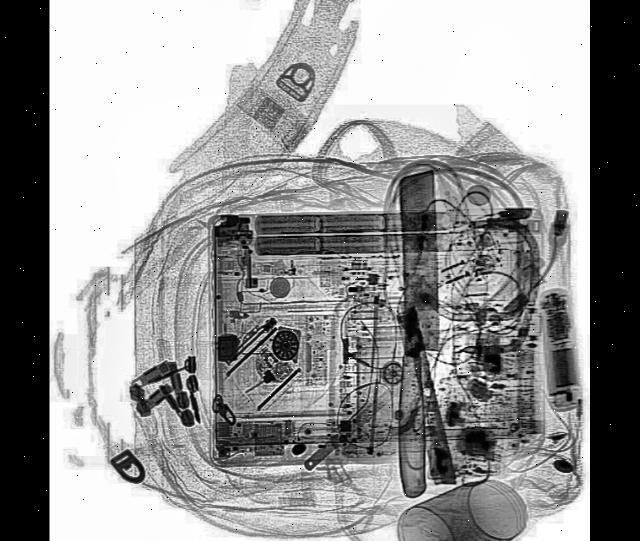Knife: (400, 169, 441, 498)
